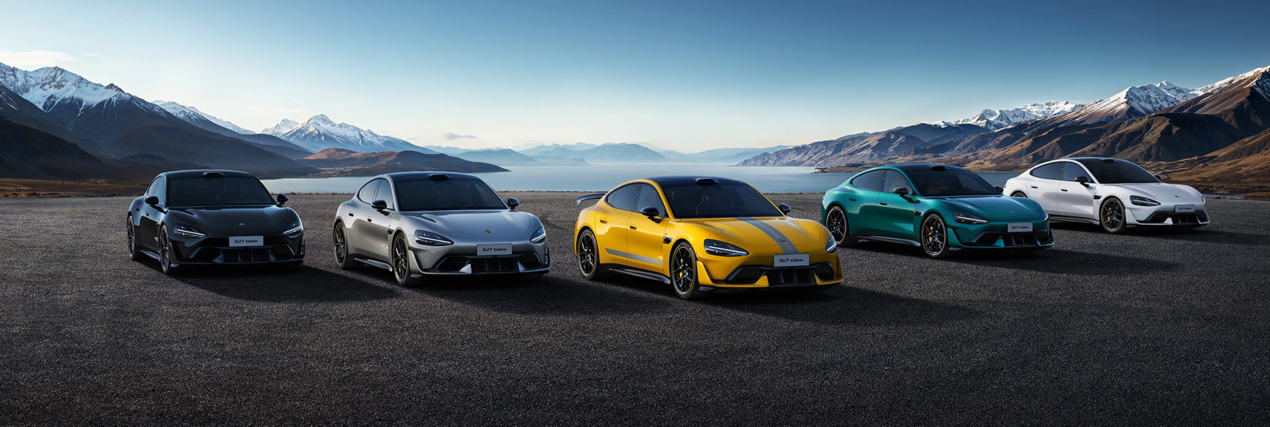su7: (568, 180, 846, 304), (332, 172, 549, 289), (819, 157, 1061, 256), (123, 170, 309, 275), (1007, 148, 1207, 236)
